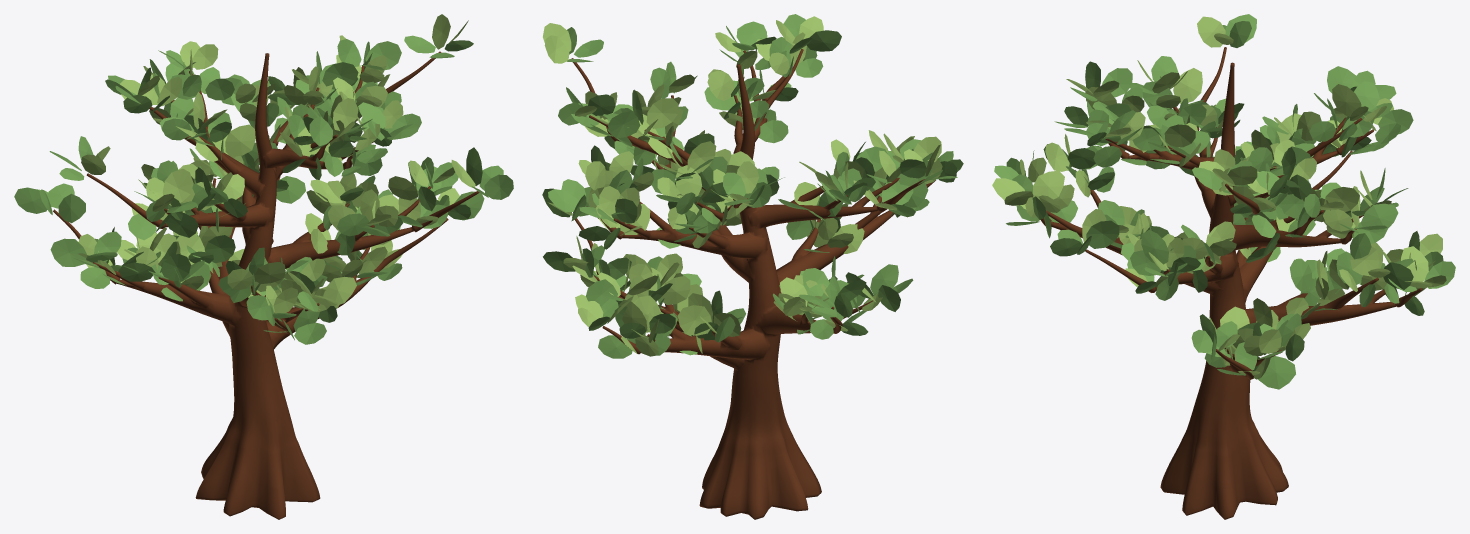
Rendered from Tree_Mature_Asymmetrical_LOD1.fbx.
3 renders of one model, left to right at view 1: azimuth 30°, elevation 25°; view 2: azimuth 150°, elevation 25°; view 3: azimuth 270°, elevation 25°, orthographic.
Visible parts, largest first — view 1: Tree_Mature_Asymmetrical_Foliage_LOD1_FBX_Triangulated, Tree_Mature_Asymmetrical_Bark_LOD1_FBX_Triangulated; view 2: Tree_Mature_Asymmetrical_Foliage_LOD1_FBX_Triangulated, Tree_Mature_Asymmetrical_Bark_LOD1_FBX_Triangulated; view 3: Tree_Mature_Asymmetrical_Foliage_LOD1_FBX_Triangulated, Tree_Mature_Asymmetrical_Bark_LOD1_FBX_Triangulated.
Part boxes in pixels (x1,y1,x2,y2): Tree_Mature_Asymmetrical_Foliage_LOD1_FBX_Triangulated: (14, 14, 513, 344); Tree_Mature_Asymmetrical_Bark_LOD1_FBX_Triangulated: (53, 51, 479, 519); Tree_Mature_Asymmetrical_Foliage_LOD1_FBX_Triangulated: (542, 14, 963, 358); Tree_Mature_Asymmetrical_Bark_LOD1_FBX_Triangulated: (571, 49, 935, 519); Tree_Mature_Asymmetrical_Foliage_LOD1_FBX_Triangulated: (992, 14, 1455, 389); Tree_Mature_Asymmetrical_Bark_LOD1_FBX_Triangulated: (1041, 47, 1422, 519).
Bounding box in the file's own units: 5.94 × 5.9 × 5.66.
